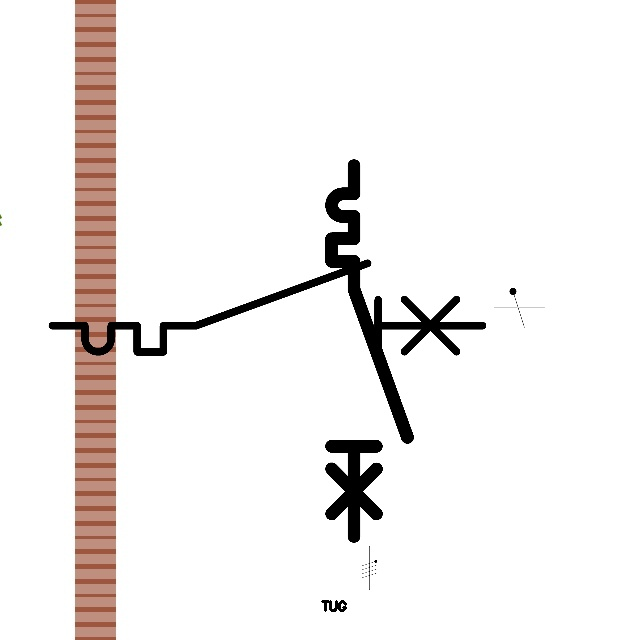interruptor_termomagnetico: (41, 252, 493, 363), (322, 156, 417, 546)
